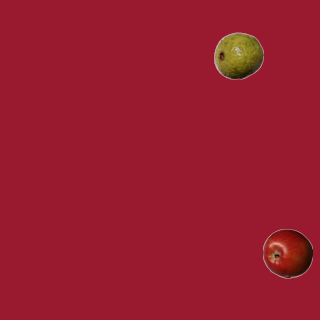Apple Braeburn: (262, 228, 312, 278)
Guava: (213, 30, 263, 80)
